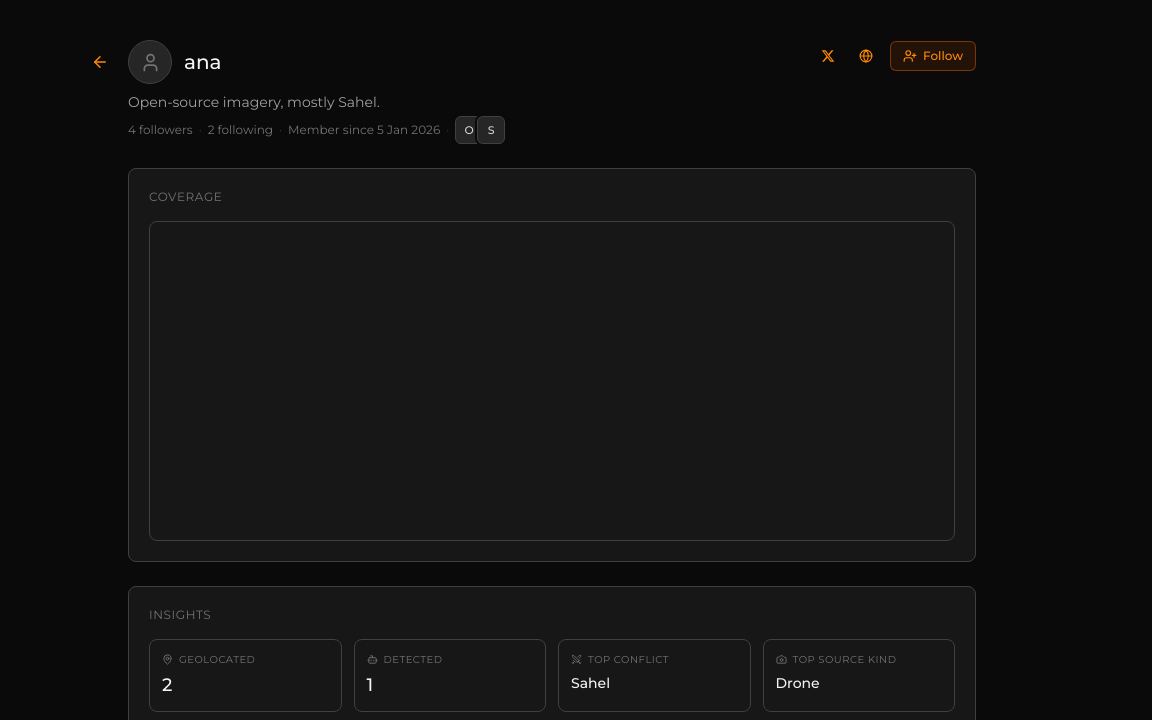
public profile order › puts the follower count back when Follow fails
The width and height of the screenshot is (1152, 720).
Expected: the heading "Insights" is shown, top-left (149, 607), bottom-right (211, 622)
Click the button "Follow".
click(933, 56)  # box top-left (890, 41), bottom-right (976, 71)
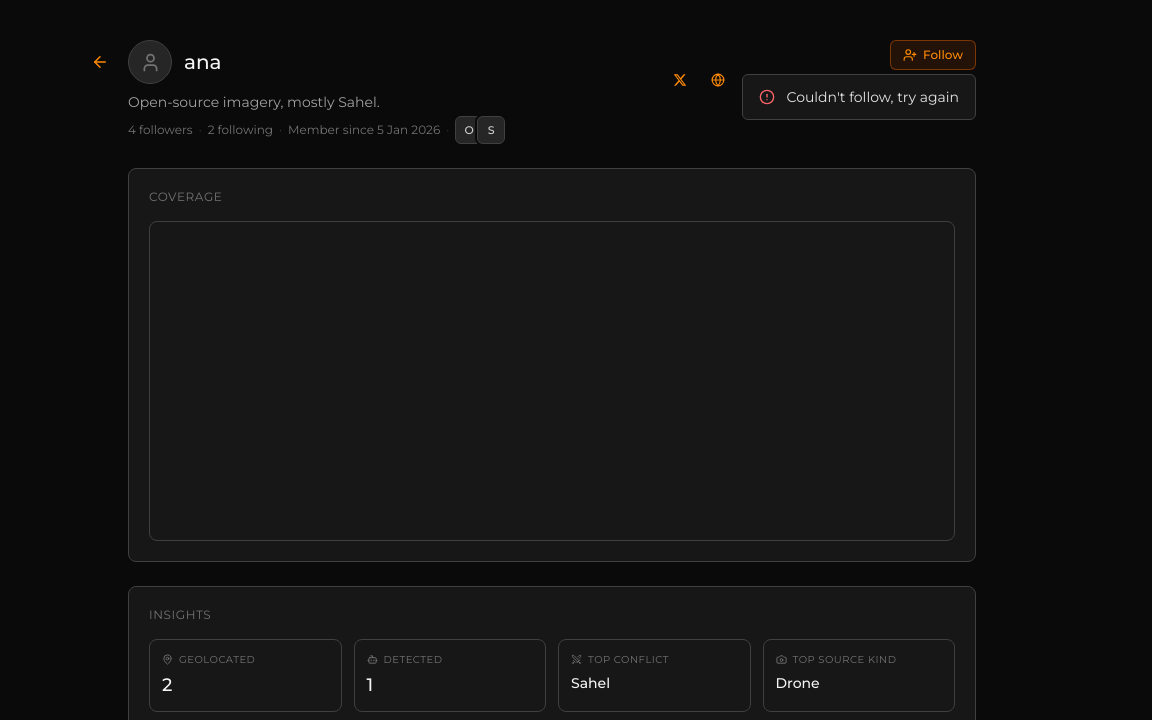
Expected: the text "4 followers" is shown, top-left (128, 122), bottom-right (193, 138)
Expected: the text "Couldn't follow, try again" is shown, top-left (786, 87), bottom-right (959, 107)
